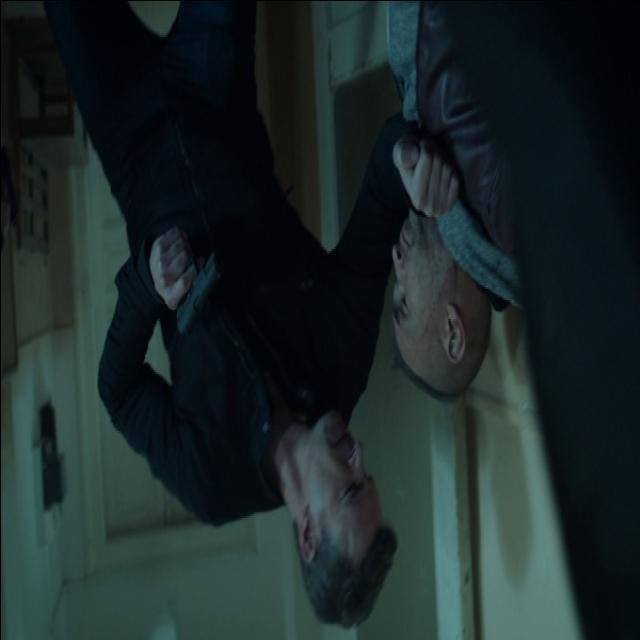weapons: (146, 203, 238, 357)
